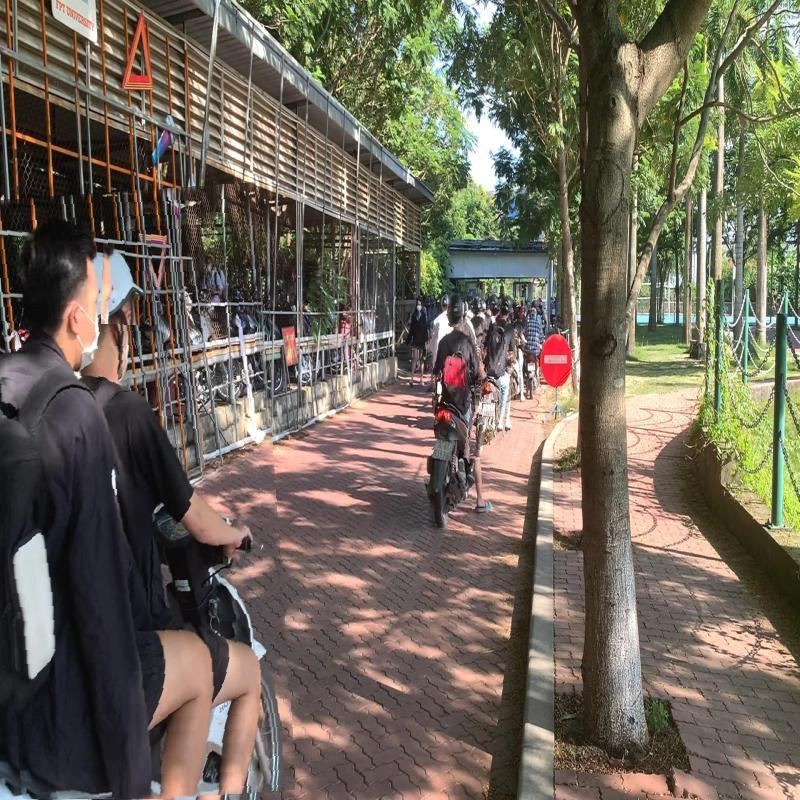helmet: (101, 245, 146, 326), (446, 292, 465, 327), (489, 294, 501, 316)
licenseplate: (432, 438, 454, 462), (482, 403, 496, 417)
motorcyclist: (0, 186, 285, 800), (424, 292, 494, 531), (470, 293, 520, 463)
nohelmet: (26, 204, 118, 375)
